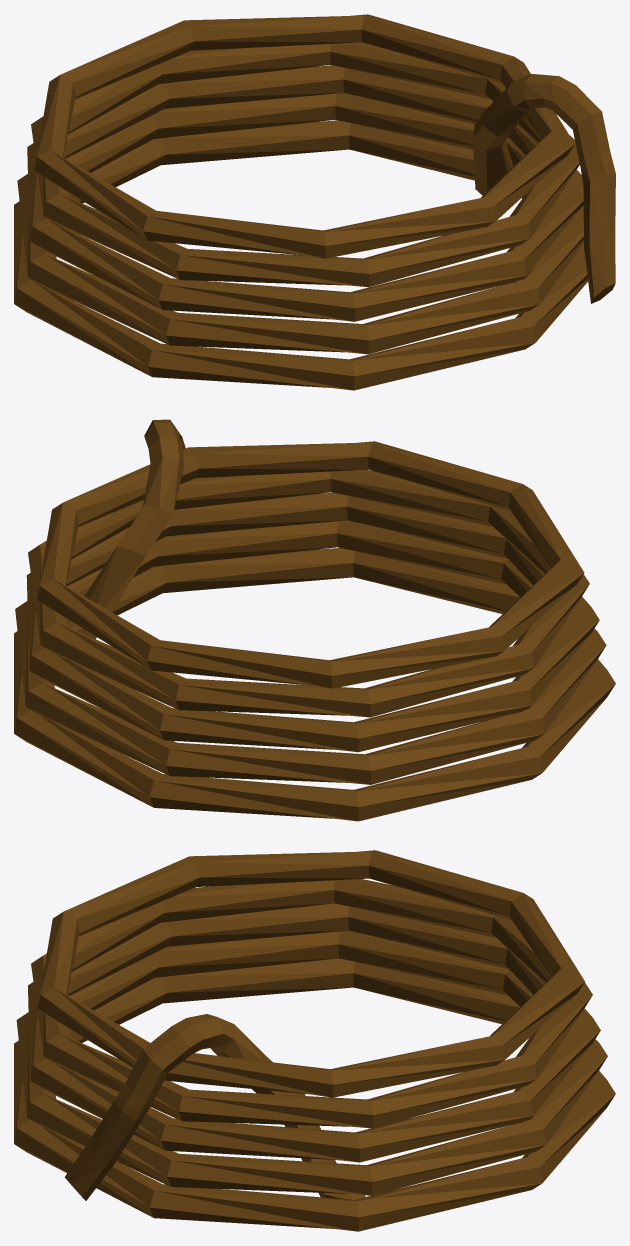
Rendered from RopeCoil.fbx.
3 views of the same model, one above another, from view 1: azimuth 30°, elevation 25°; view 2: azimuth 150°, elevation 25°; view 3: azimuth 270°, elevation 25° (orthographic).
Parts seen in each view (by area): view 1: Coil; view 2: Coil; view 3: Coil.
Boxes of the visible parts, box(x1,y1,x2,y2) form: Coil: box(14, 14, 615, 390); Coil: box(14, 419, 615, 821); Coil: box(14, 850, 615, 1231).
Size of the model in its own units: 66.22 by 22.29 by 65.33.
